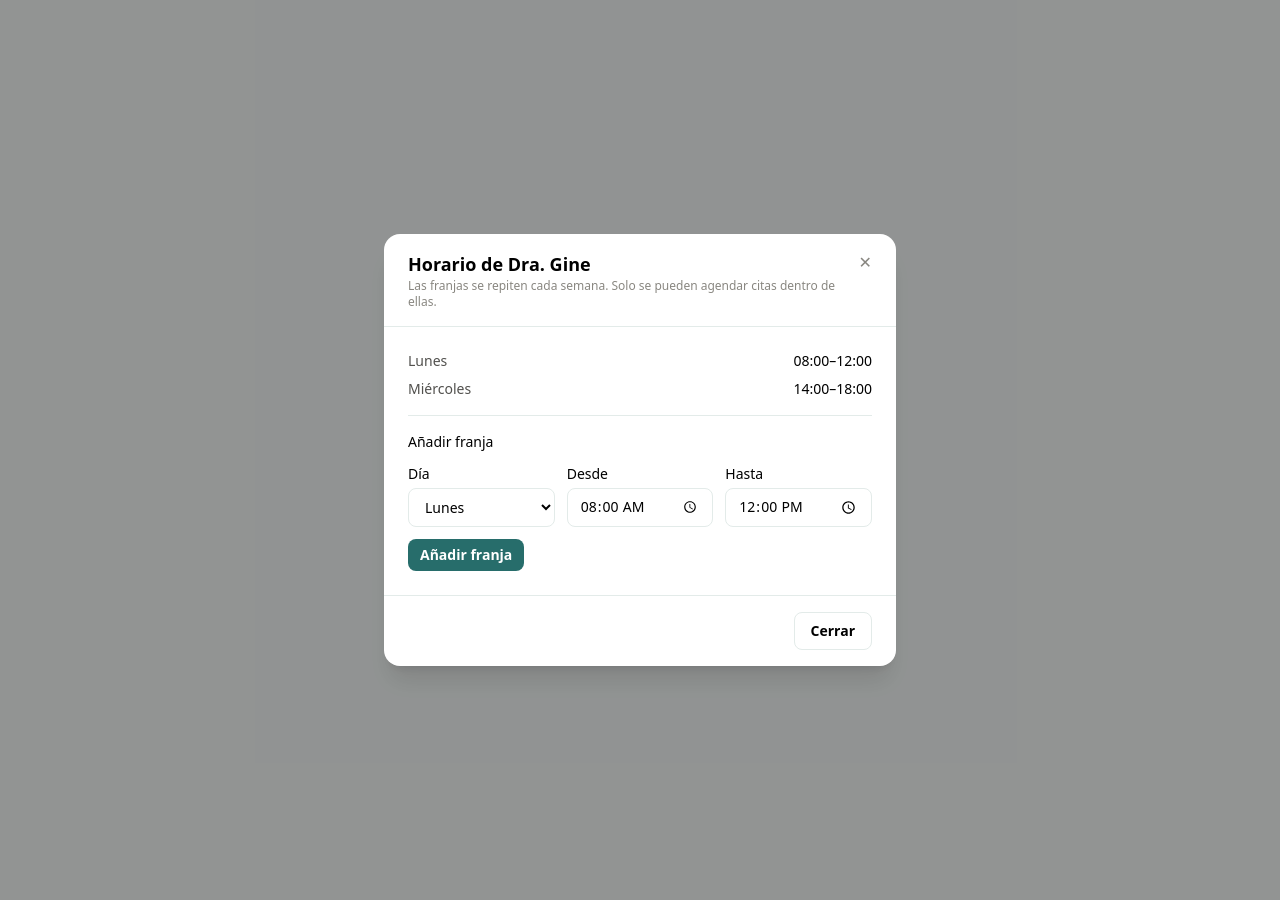
Test: AvailabilityModal › shows the reason the backend gives when the slot crosses another
expect the list named "Horario semanal" is shown: met, box [408,351,872,399]
Replace the text in the time field labelled "Desde" with "10:00": x=640, y=507 [567,488,713,527]
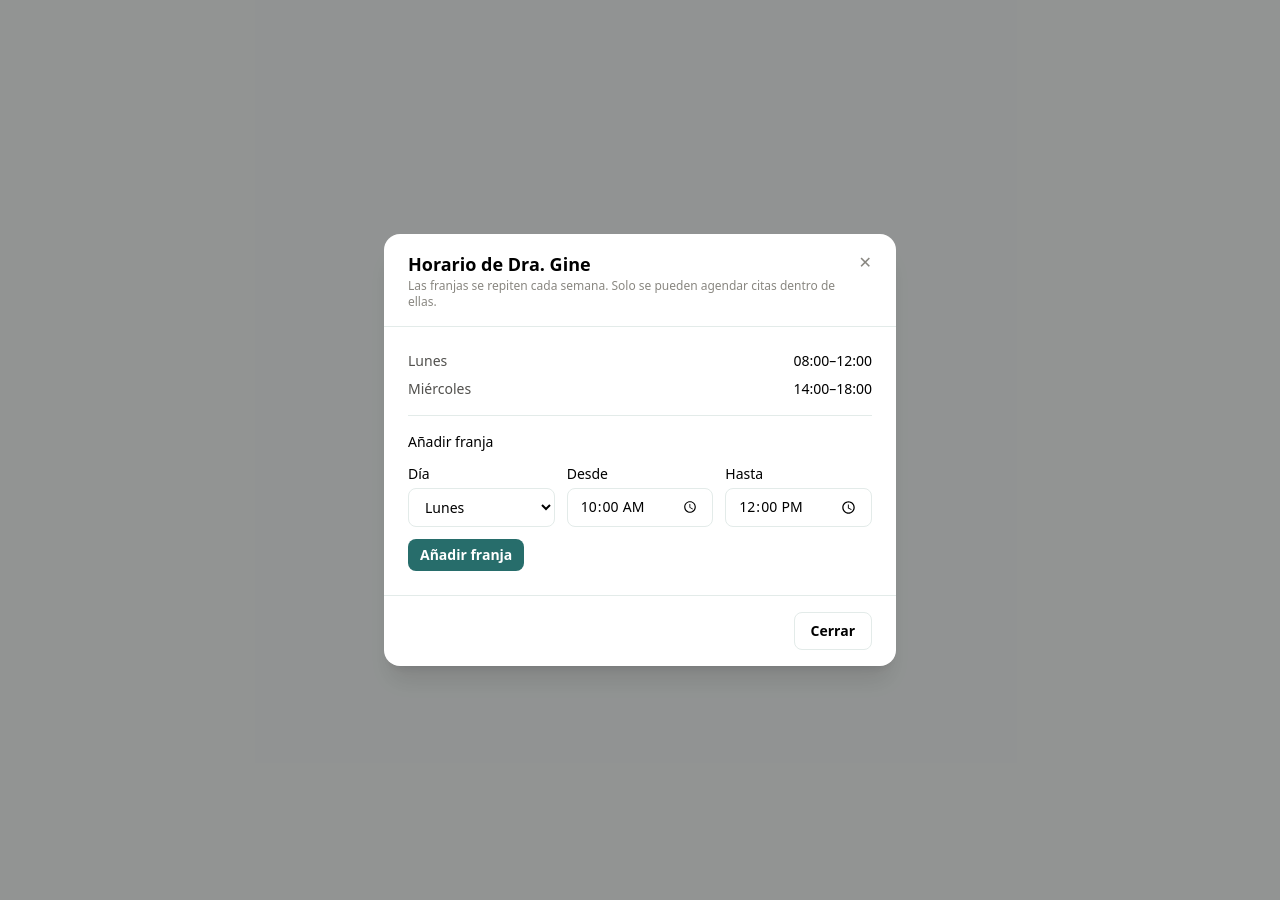
Replace the text in the time field labelled "Hasta" with "14:00": x=799, y=507 [725,488,872,527]
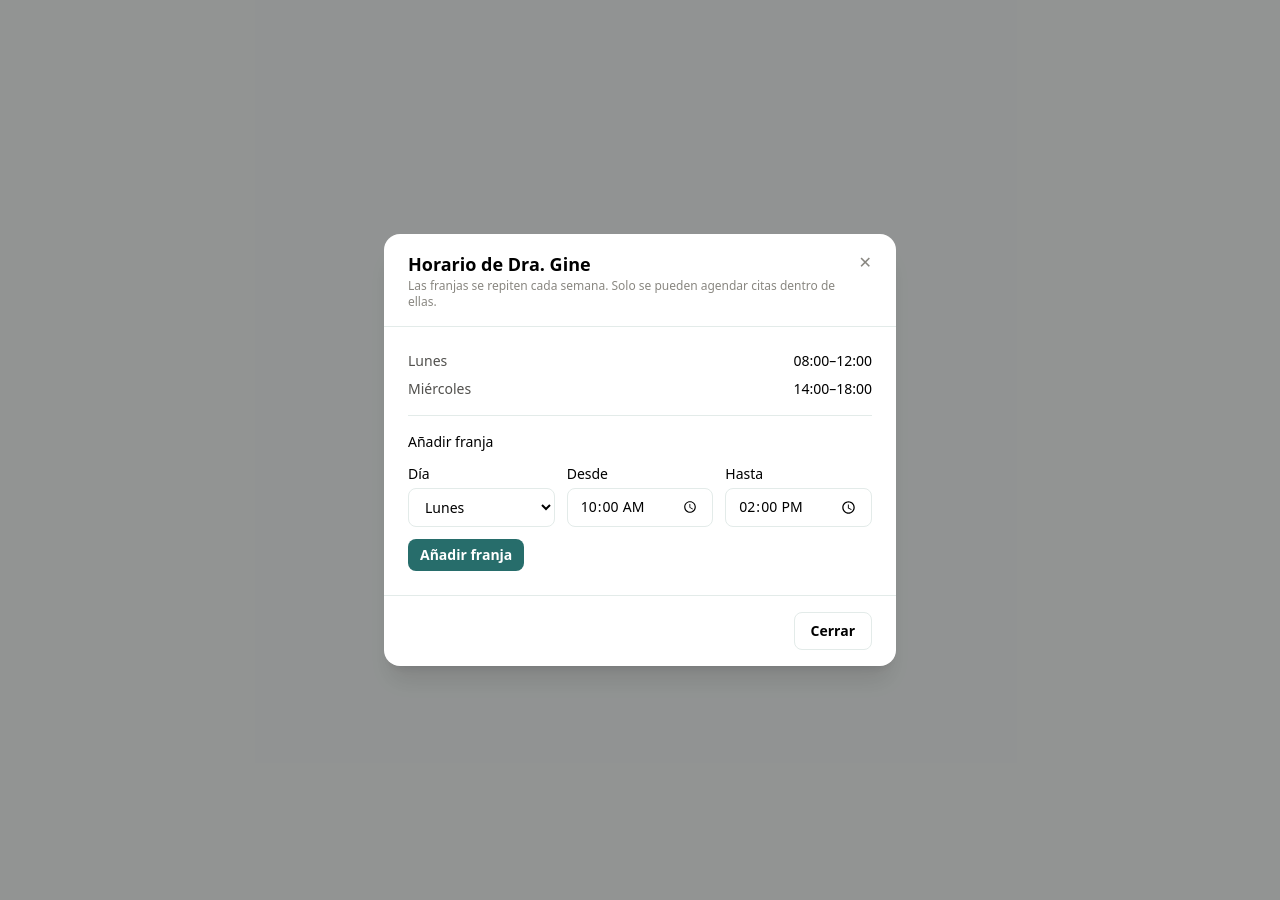
Click the button "Añadir franja": x=466, y=555 [408,539,524,571]
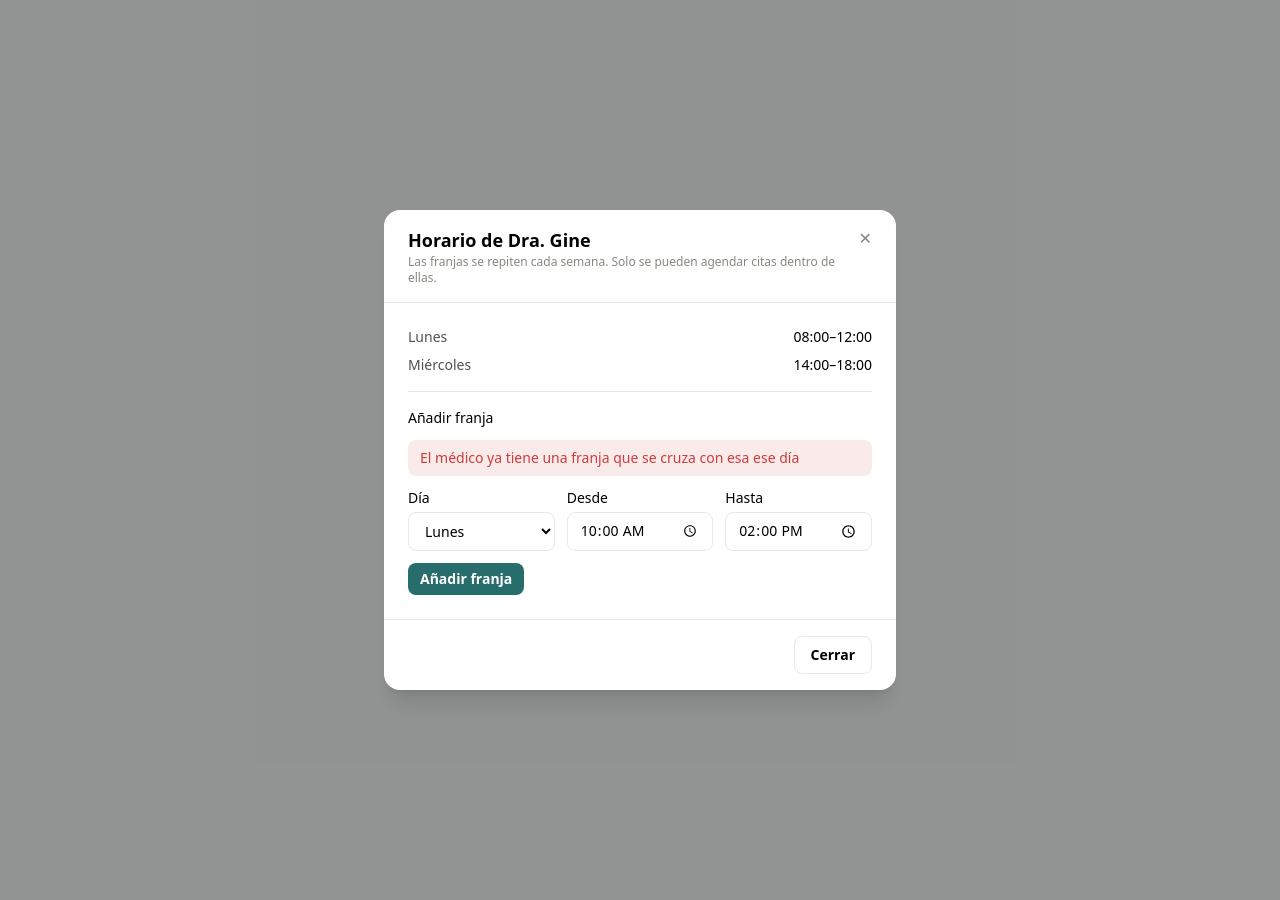
expect the text "El médico ya tiene una franja que se cruza con esa ese día" is shown: met, box [408,440,872,476]
